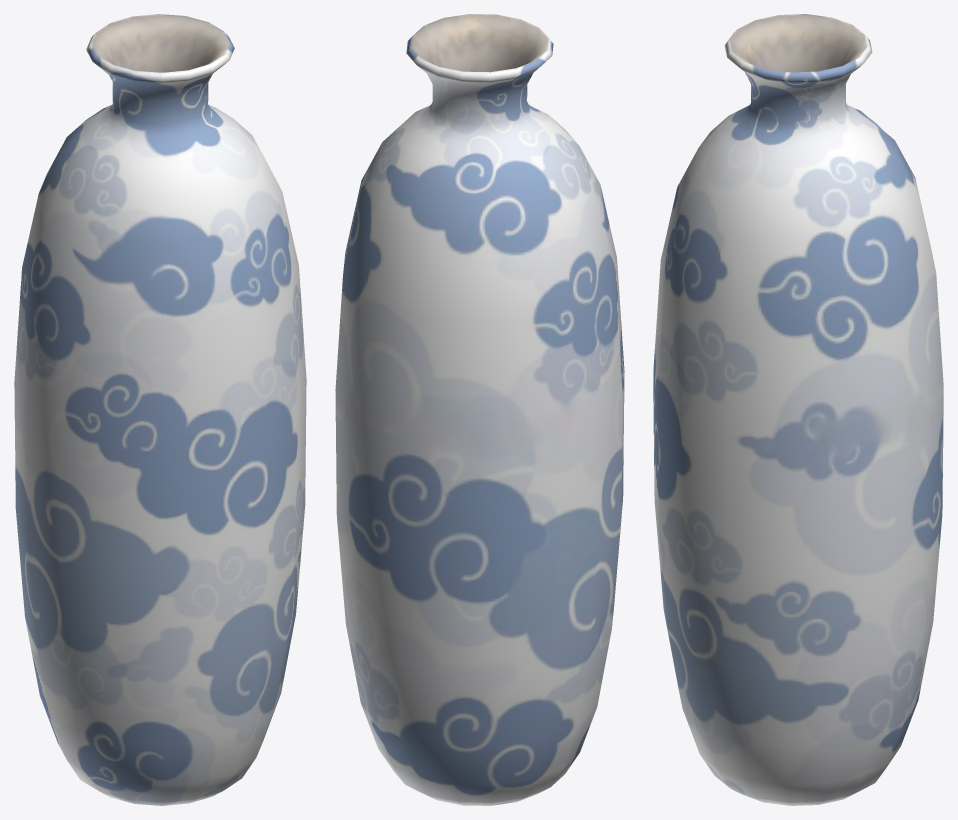
The model's file is SM_Vase3.glb.
3 renders of one model, left to right at view 1: azimuth 30°, elevation 25°; view 2: azimuth 150°, elevation 25°; view 3: azimuth 270°, elevation 25°, orthographic.
Visible parts, largest first — view 1: SM_Vase3_LOD0; view 2: SM_Vase3_LOD0; view 3: SM_Vase3_LOD0.
Part boxes in pixels (x1,y1,x2,y2): SM_Vase3_LOD0: [14, 14, 306, 805]; SM_Vase3_LOD0: [335, 14, 624, 805]; SM_Vase3_LOD0: [653, 14, 943, 805].
Bounding box in the file's own units: 0.2816 × 0.783 × 0.2816.
1 material, 1 textured.
